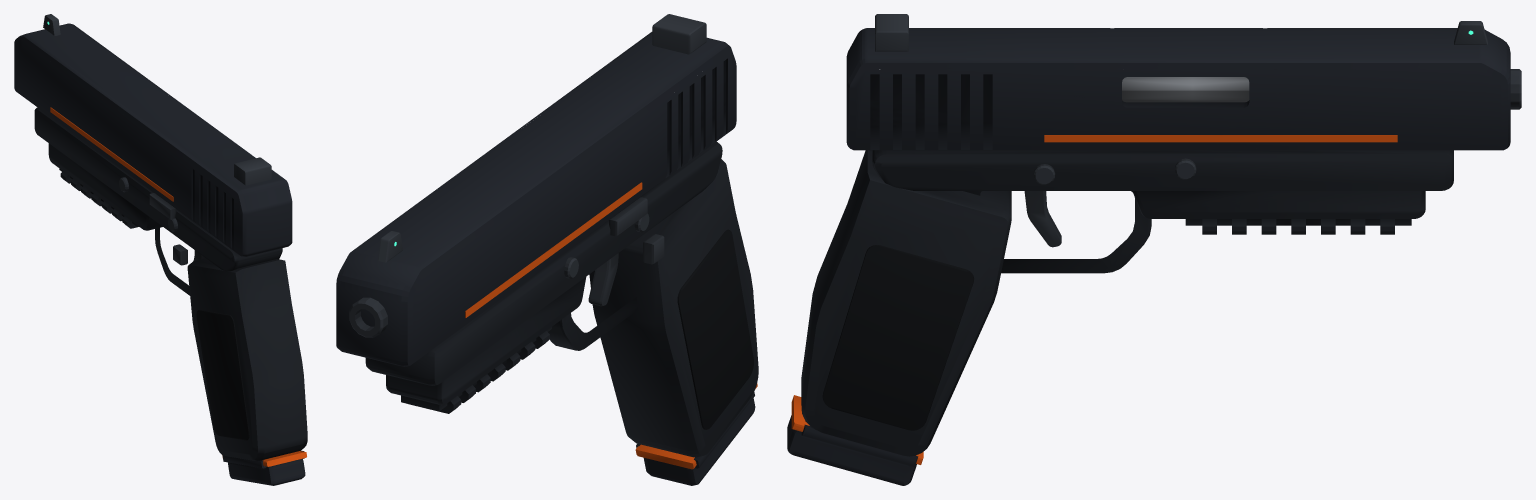
File: glock-17.glb
The picture shows the model from 3 angles, left to right: view 1: azimuth 30°, elevation 25°; view 2: azimuth 150°, elevation 25°; view 3: azimuth 270°, elevation 25°; orthographic projection. The views are drawn at different scales.
Parts seen in each view (by area): view 1: bolt_frame2, body_furn, body_rubber, mag_frame2, bolt_steel, body_steel, bolt_accent, mag_accent; view 2: bolt_frame2, body_furn, body_rubber, body_steel, bolt_steel, mag_frame2, bolt_accent, mag_accent; view 3: bolt_frame2, body_furn, body_rubber, bolt_bolt, mag_frame2, bolt_accent, body_steel, bolt_steel, body_frame2.
Boxes of the visible parts, x1,y1,x2,y2 form: bolt_frame2: (14, 23, 292, 256); body_furn: (34, 107, 307, 460); body_rubber: (196, 310, 249, 440); mag_frame2: (228, 458, 305, 485); bolt_steel: (43, 14, 271, 185); body_steel: (119, 177, 205, 265); bolt_accent: (50, 107, 173, 201); mag_accent: (222, 451, 306, 466); bolt_frame2: (336, 32, 736, 366); body_furn: (365, 141, 758, 457); body_rubber: (677, 229, 753, 429); body_steel: (349, 197, 664, 337); bolt_steel: (378, 14, 706, 262); mag_frame2: (643, 398, 755, 485); bolt_accent: (465, 182, 642, 317); mag_accent: (635, 383, 757, 469); bolt_frame2: (846, 28, 1510, 150); body_furn: (801, 148, 1453, 456); body_rubber: (822, 245, 973, 430); bolt_bolt: (1122, 77, 1249, 102); mag_frame2: (787, 415, 916, 485); bolt_accent: (1044, 135, 1397, 142); body_steel: (1024, 69, 1521, 247); bolt_steel: (875, 14, 1487, 51); body_frame2: (801, 424, 918, 467).
Size of the model in its own units: 0.0355 by 0.1772 by 0.2601.
